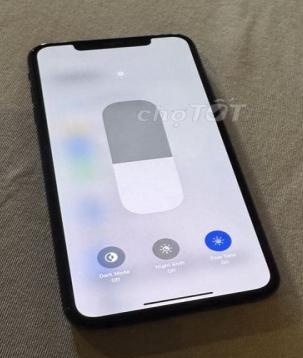scratch: (28, 39, 55, 53)
